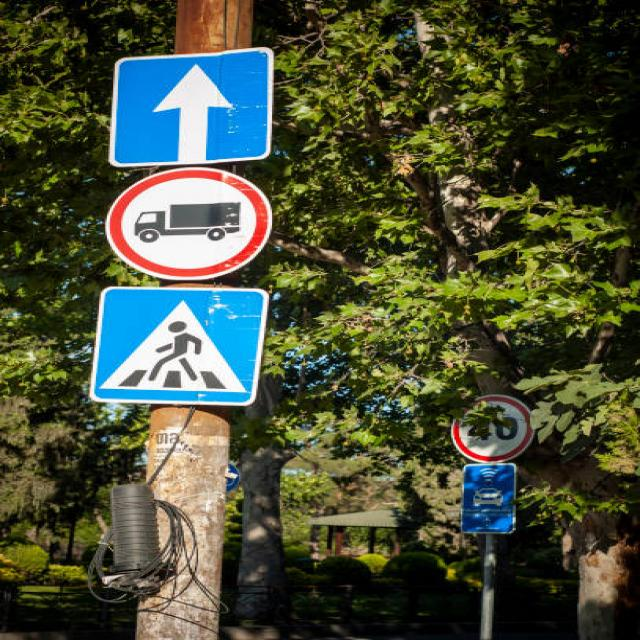crosswalk: (89, 281, 274, 421)
do_not_enter: (108, 165, 280, 282)
